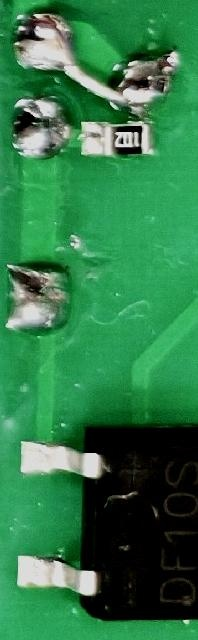chip-resistor: (75, 117, 158, 159)
ic: (9, 420, 198, 625)
